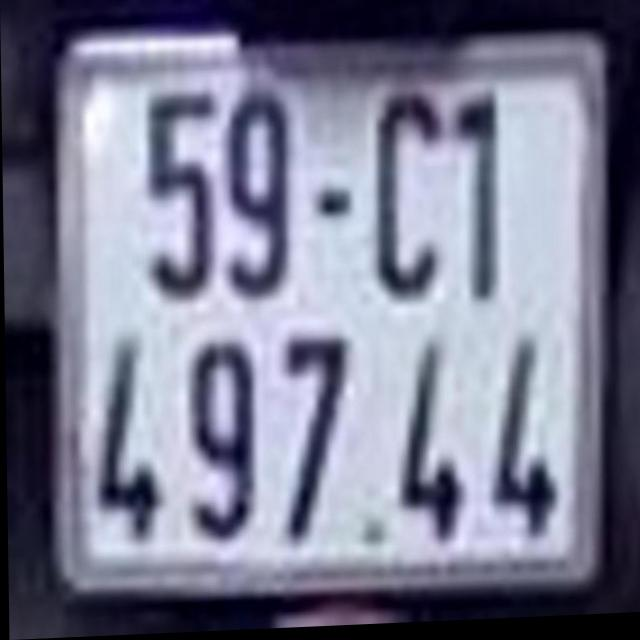1: (455, 95, 505, 303)
4: (91, 334, 163, 541), (391, 343, 459, 550), (494, 346, 552, 540)
5: (146, 91, 214, 299)
7: (276, 333, 356, 544)
9: (184, 342, 259, 542), (228, 92, 285, 297)
C: (378, 96, 448, 297)
